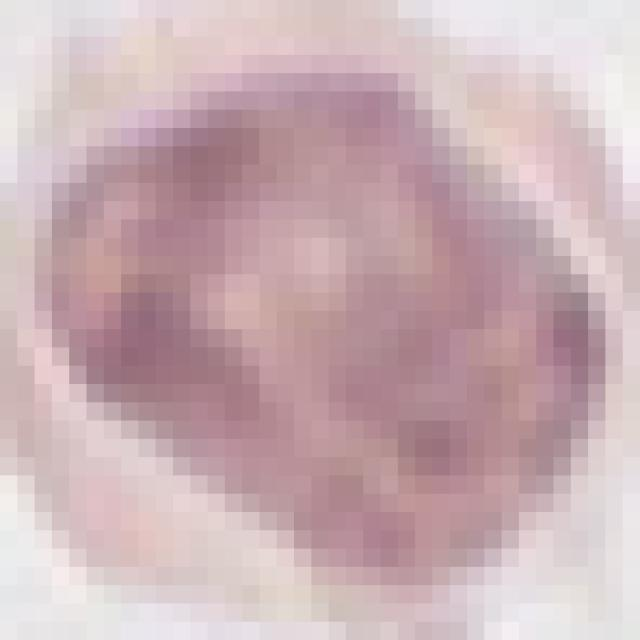cytoplasm: (0, 11, 623, 622)
